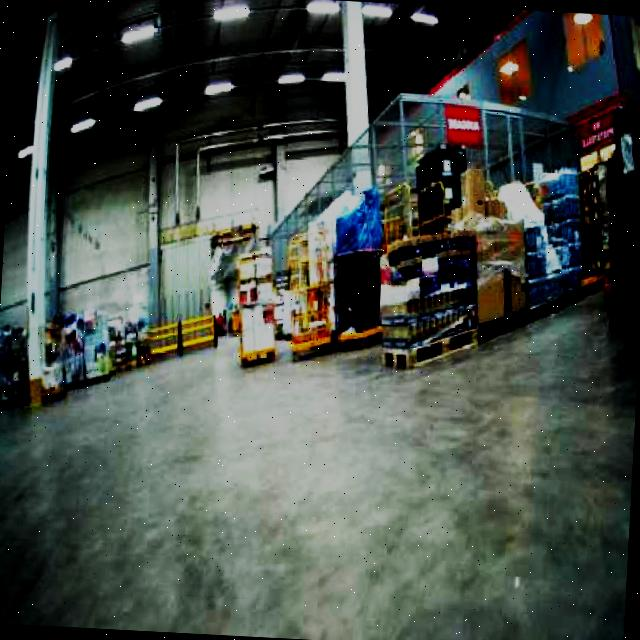ground: (0, 254, 640, 640)
pallet: (0, 130, 612, 472), (230, 145, 607, 385), (0, 300, 220, 425), (376, 228, 488, 373), (282, 223, 340, 362), (231, 246, 282, 367), (379, 175, 452, 254), (334, 246, 387, 351), (382, 320, 481, 373), (574, 164, 610, 292), (290, 319, 383, 365), (142, 309, 220, 362), (0, 322, 35, 410), (379, 178, 415, 251), (417, 177, 452, 236), (180, 311, 220, 353), (290, 326, 335, 362), (144, 319, 184, 359), (339, 323, 383, 351)
